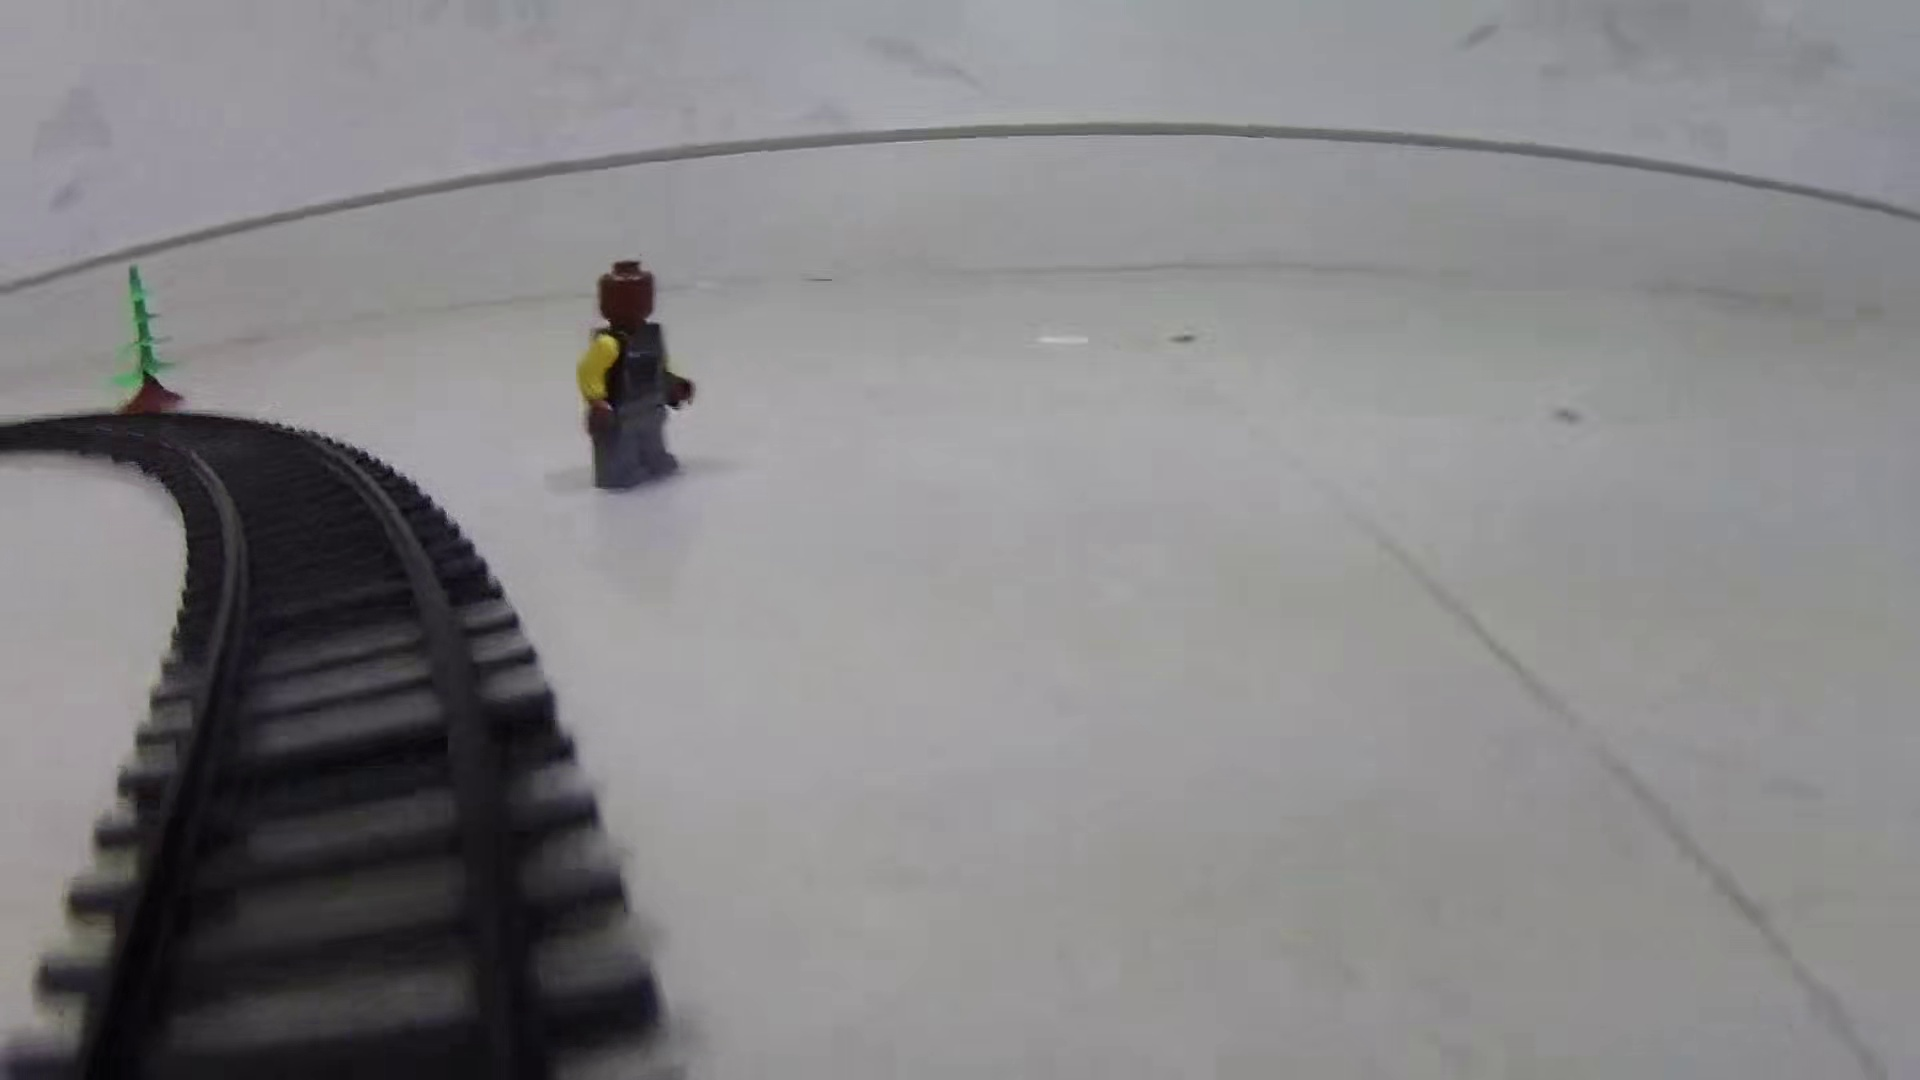people: (579, 261, 695, 492)
tree: (114, 266, 185, 414)
